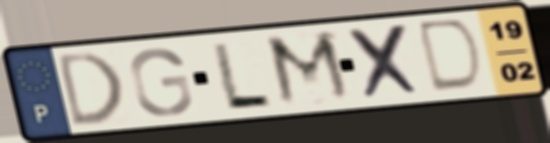D: (53, 48, 126, 131), (417, 16, 487, 95)
G: (126, 45, 196, 118)
L: (208, 40, 276, 110)
M: (261, 28, 359, 111)
X: (344, 21, 427, 103)
